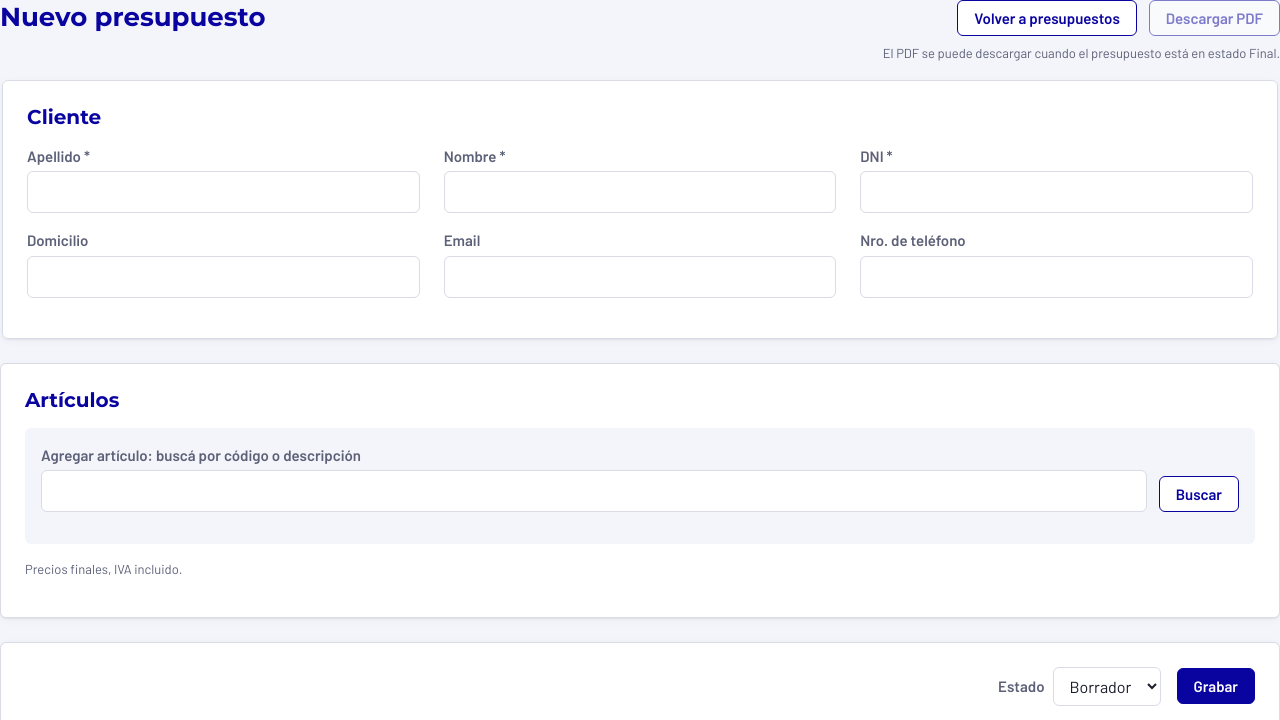
Test: pantalla de presupuesto › pide al menos un artículo
Type "González" into the field labelled "Apellido *" at (223, 192), box [27,171,420,213]
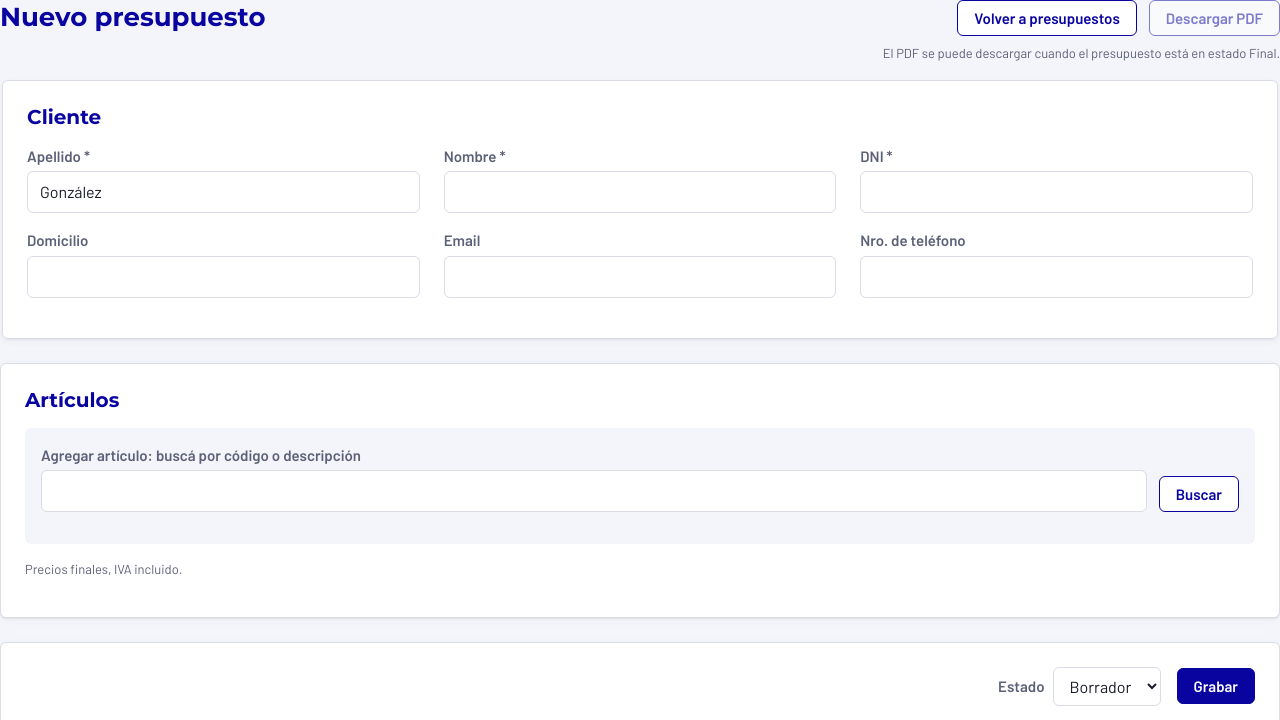
Type "María" into the field labelled "Nombre *" at (640, 192), box [444,171,836,213]
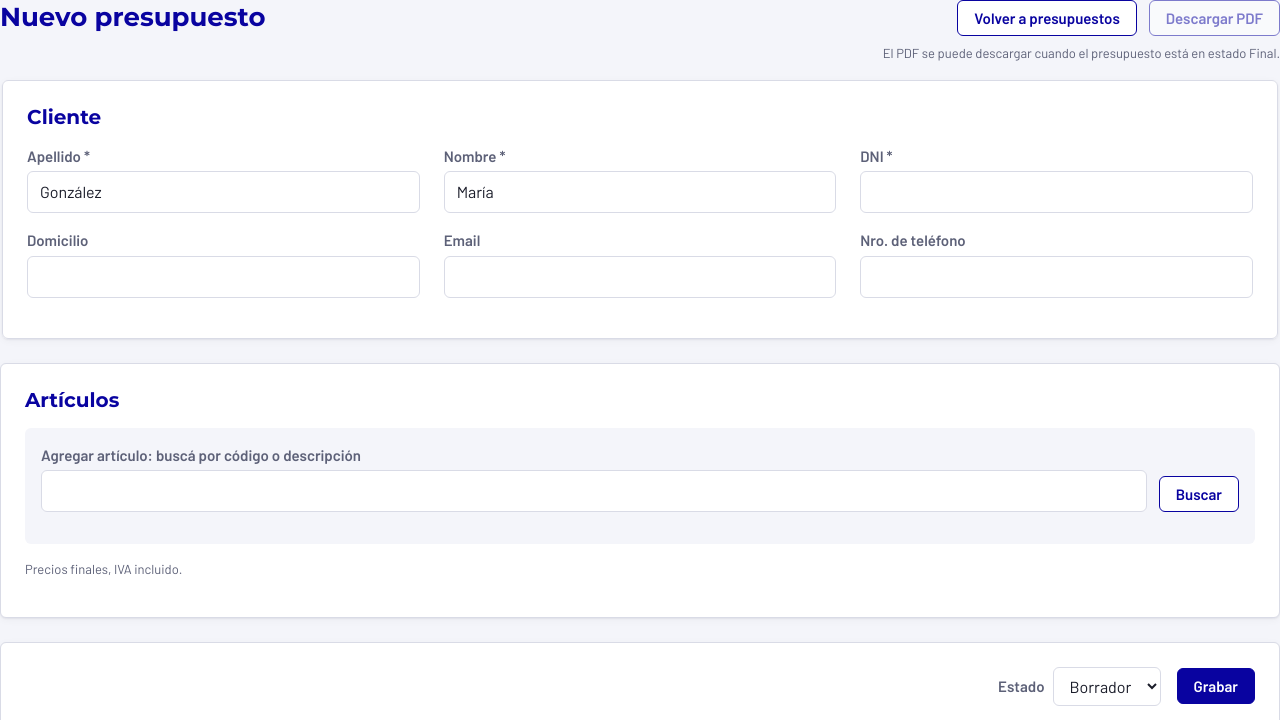
Type "23.456.789" into the field labelled "DNI *" at (1057, 192), box [860,171,1253,213]
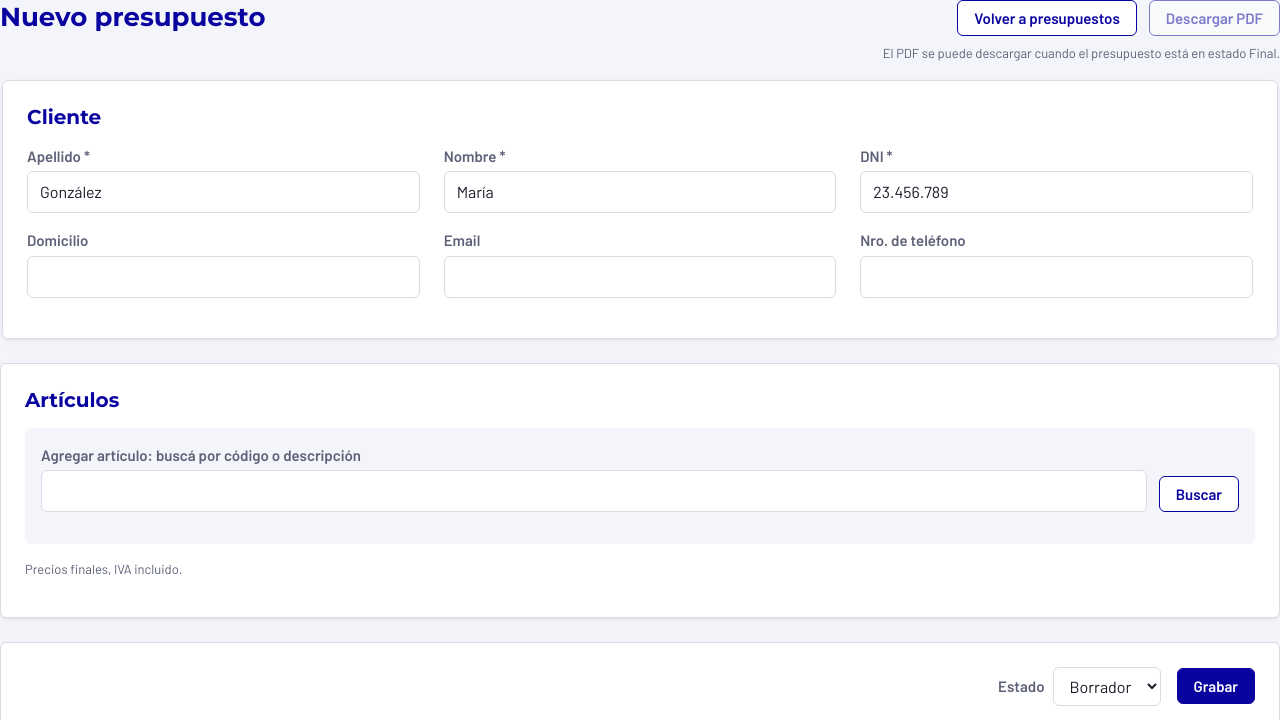
Click the button "Grabar" at (1216, 686), box [1176,668,1255,704]
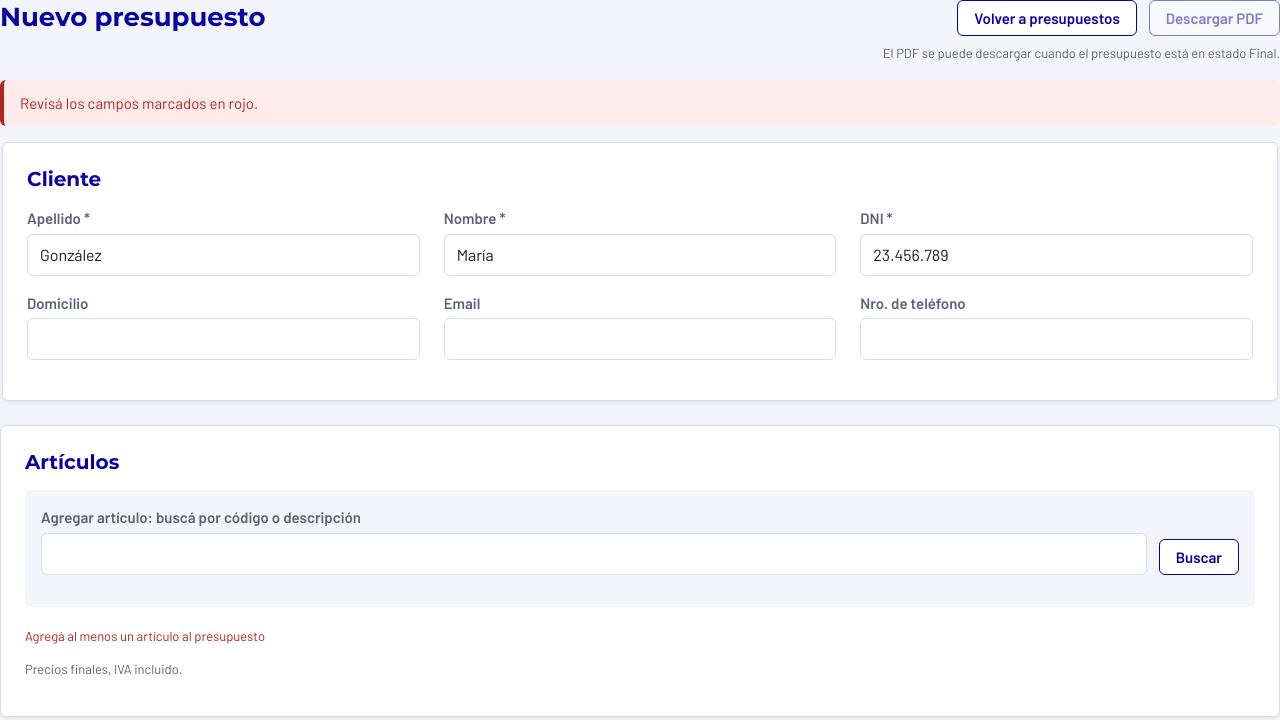
Expected: the text "Agregá al menos un artículo al presupuesto" is shown, [25,628,265,644]
